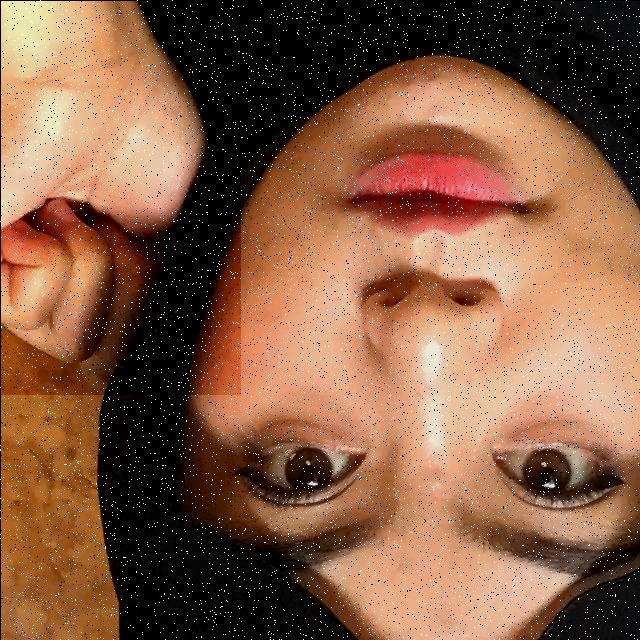ibu: (0, 0, 240, 394)
